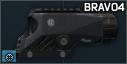SIG Sauer BRAVO4 4X30 Scope: (0, 0, 127, 64)
